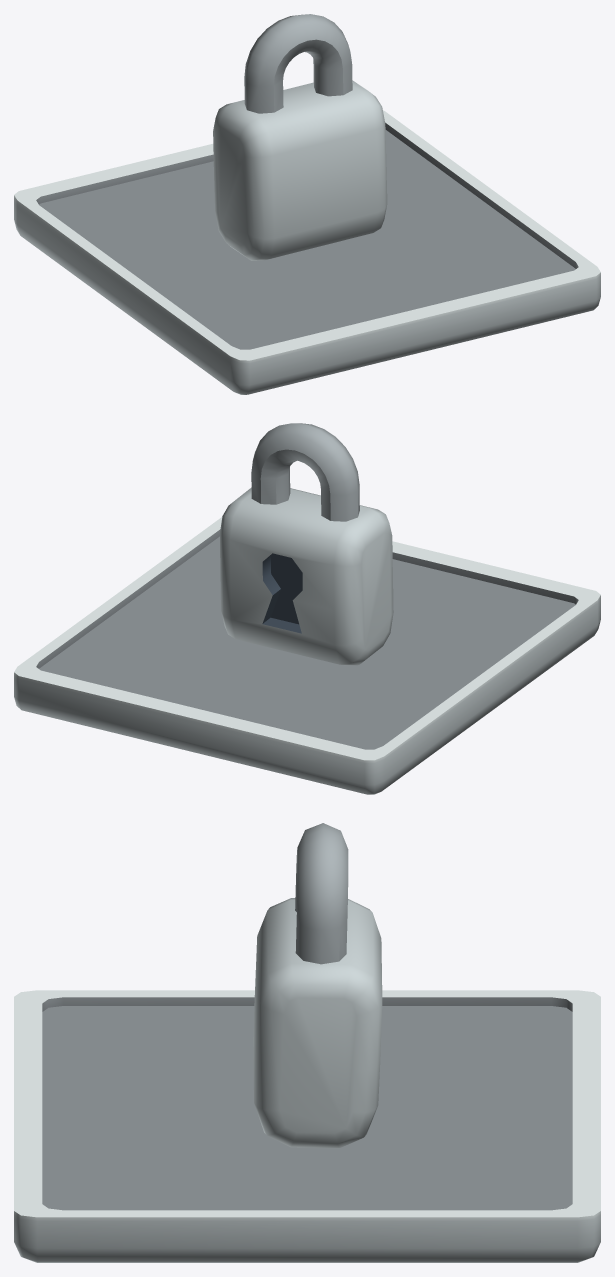
File: LockedBox.fbx
3 views of the same model, one above another, from view 1: azimuth 30°, elevation 25°; view 2: azimuth 150°, elevation 25°; view 3: azimuth 270°, elevation 25° (orthographic). The views are drawn at different scales.
Parts seen in each view (by area): view 1: GlassBottom, Cage.001; view 2: GlassBottom, Cage.001; view 3: GlassBottom, Cage.001.
Boxes of the visible parts, x1=… form: GlassBottom: x1=14, y1=110, x2=600, y2=394; Cage.001: x1=213, y1=14, x2=387, y2=260; GlassBottom: x1=14, y1=517, x2=600, y2=794; Cage.001: x1=220, y1=423, x2=393, y2=665; GlassBottom: x1=14, y1=990, x2=600, y2=1262; Cage.001: x1=253, y1=823, x2=382, y2=1147.
Size of the model in its own units: 1.32 by 0.8803 by 1.45.
